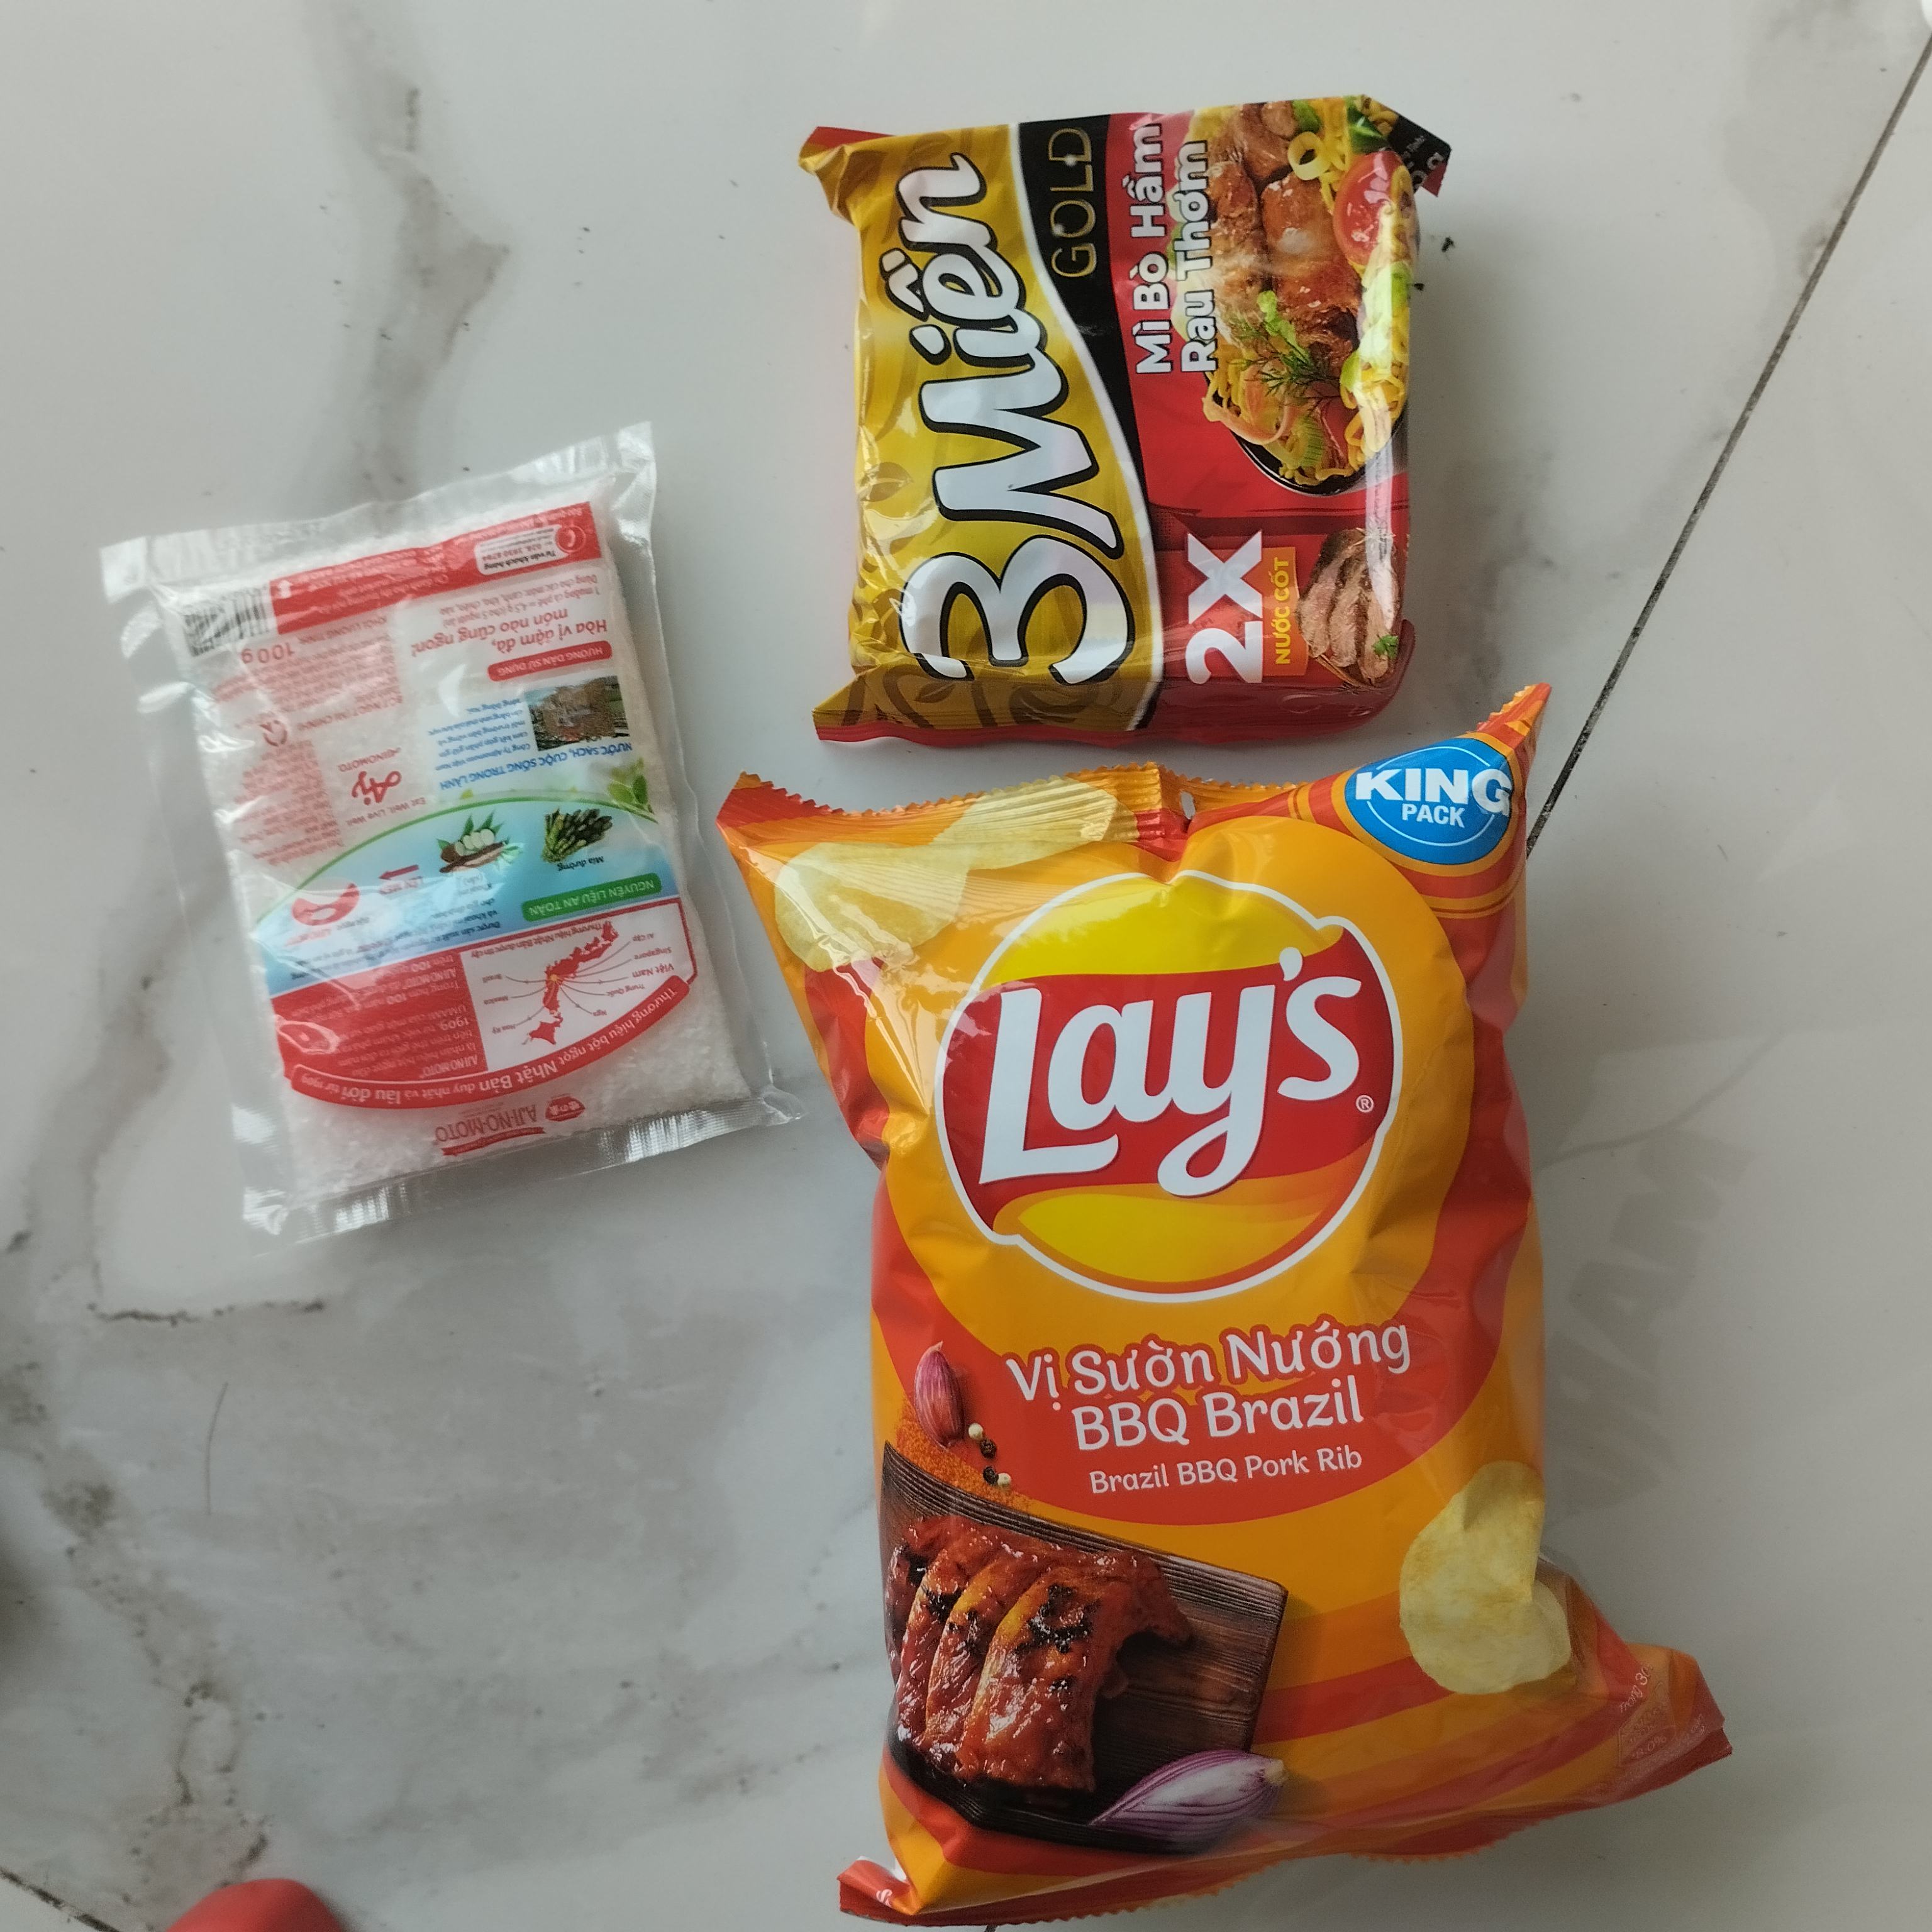3mien: (789, 92, 1477, 759)
Ajinomoto: (88, 426, 784, 1244)
Lays: (697, 669, 1739, 1927)
